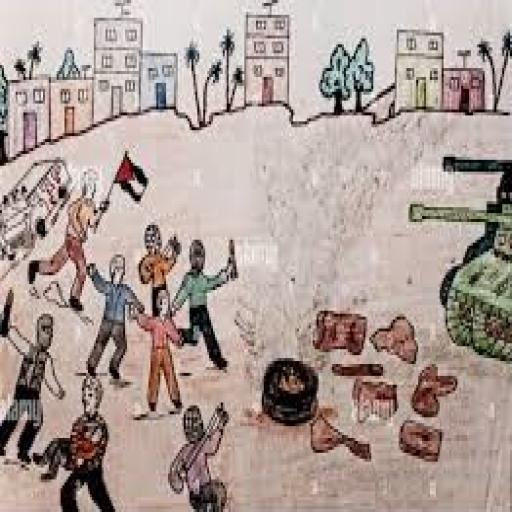person: (24, 149, 120, 313), (1, 284, 67, 470), (160, 396, 240, 509), (178, 229, 239, 369), (54, 373, 116, 509), (128, 282, 190, 418), (81, 250, 142, 387), (130, 211, 183, 315), (33, 426, 111, 482)
